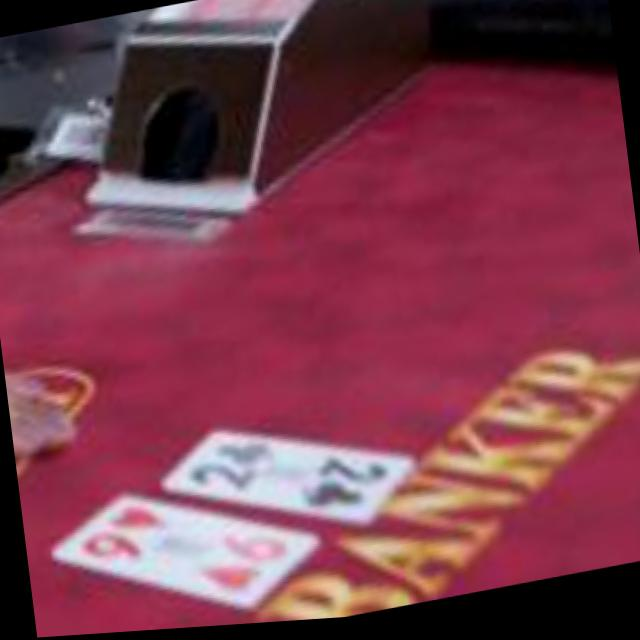Card-2: (164, 430, 410, 532)
Card-9: (51, 492, 319, 612)
